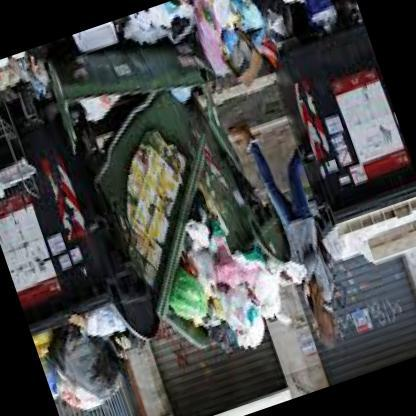Garbage: (34, 314, 127, 415), (186, 0, 260, 103), (169, 252, 252, 333), (110, 0, 213, 56), (190, 0, 252, 85), (233, 266, 302, 340), (0, 48, 59, 131), (183, 243, 243, 303), (79, 302, 137, 364), (178, 208, 230, 266), (232, 0, 287, 48), (62, 22, 122, 62), (74, 90, 124, 130), (235, 0, 296, 31), (231, 308, 266, 353), (16, 56, 51, 93), (238, 244, 273, 278), (154, 328, 156, 332)
